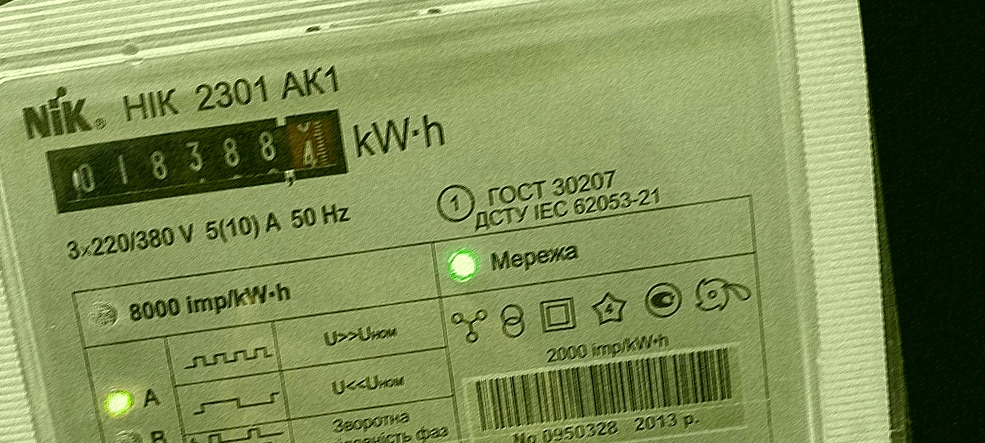0: (73, 158, 98, 196)
1: (110, 149, 133, 188)
3: (183, 137, 207, 175)
4: (296, 135, 320, 171)
8: (145, 145, 171, 183), (254, 126, 279, 165), (218, 134, 243, 171)
screen: (35, 98, 362, 226)
